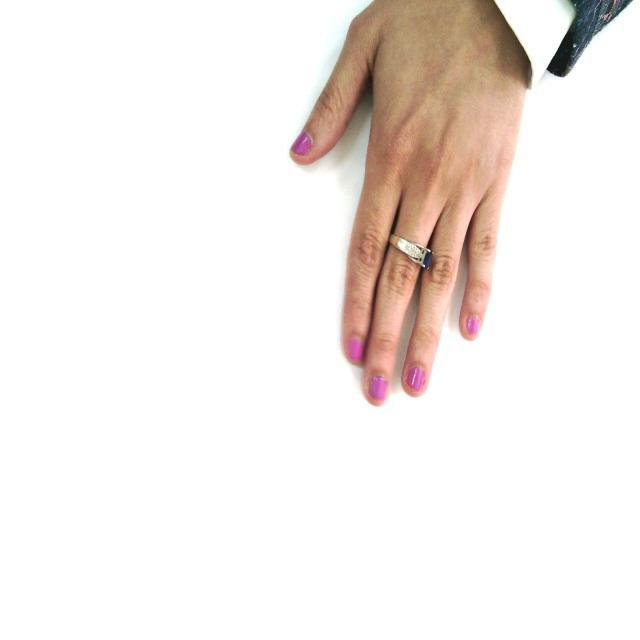Fingernail: (370, 375, 387, 403), (407, 367, 425, 391), (347, 337, 363, 363), (292, 134, 311, 154), (466, 316, 479, 336)
